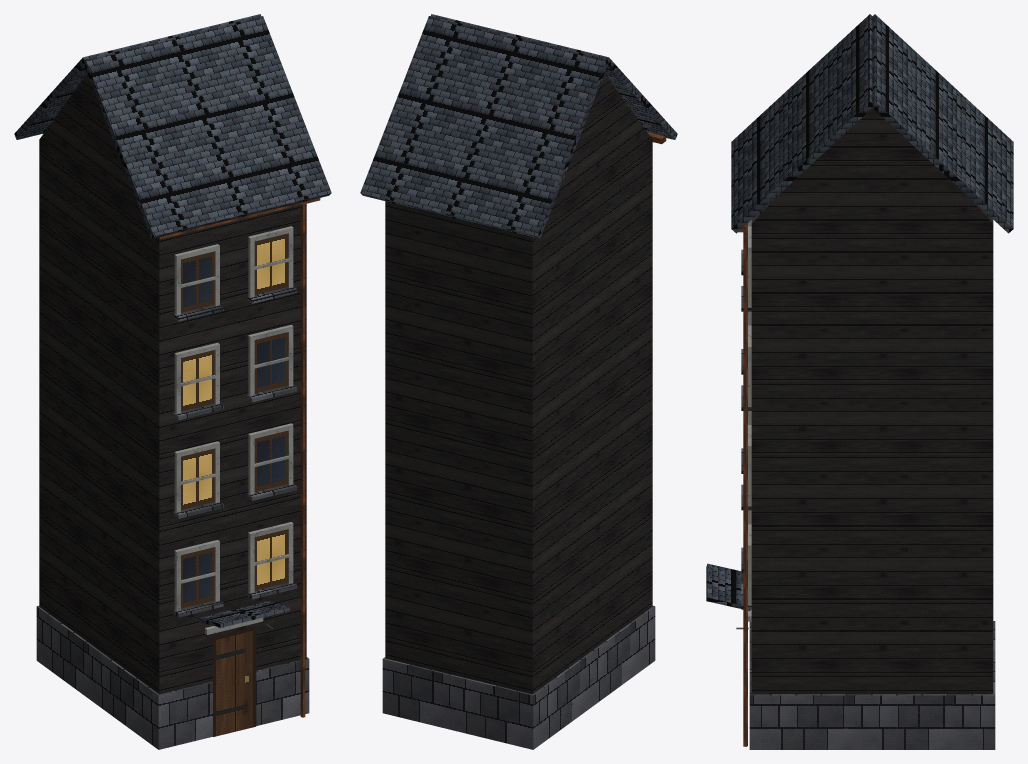
The model's file is casa_niebla_alta.obj.
3 views of the same model, side by side, from view 1: azimuth 30°, elevation 25°; view 2: azimuth 150°, elevation 25°; view 3: azimuth 270°, elevation 25° (orthographic).
Parts seen in each view (by area): view 1: casa_niebla_alta; view 2: casa_niebla_alta; view 3: casa_niebla_alta.
Boxes of the visible parts, x1=… form: casa_niebla_alta: x1=14, y1=14, x2=331, y2=749; casa_niebla_alta: x1=360, y1=14, x2=677, y2=749; casa_niebla_alta: x1=706, y1=14, x2=1013, y2=749.
Size of the model in its own units: 4.1 by 14.35 by 6.1.
9 materials, 9 textured.
